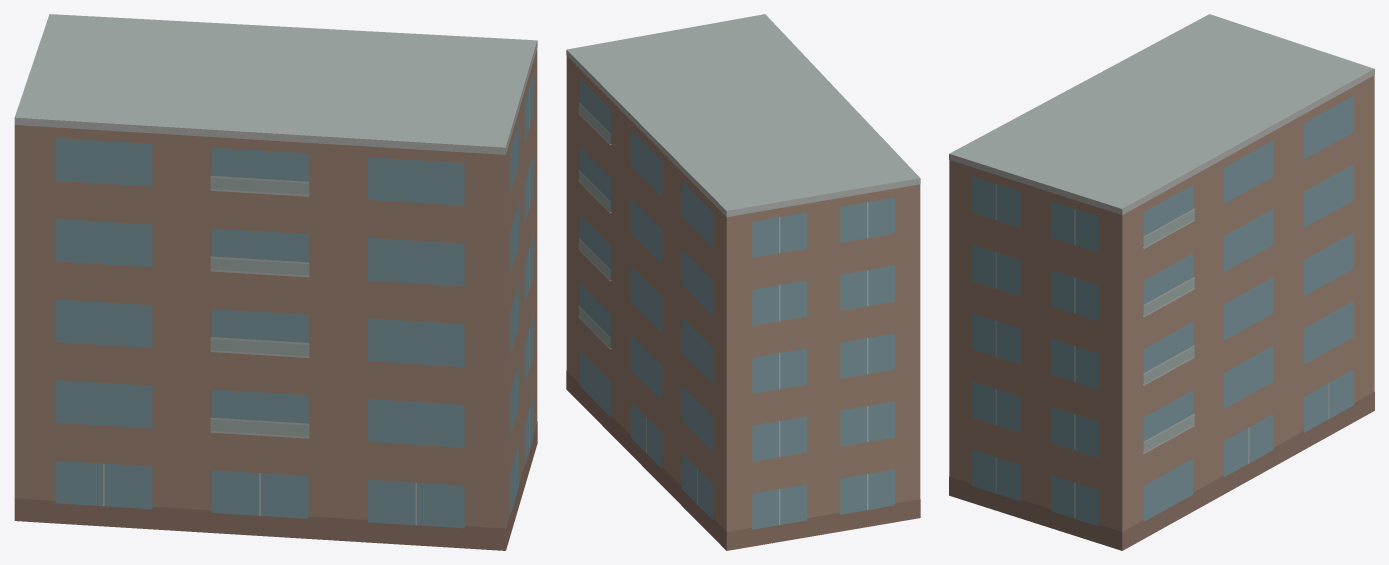
Rendered from survey-upis-32704587.glb.
3 renders of one model, left to right at view 1: azimuth 30°, elevation 25°; view 2: azimuth 150°, elevation 25°; view 3: azimuth 270°, elevation 25°, orthographic. The views are drawn at different scales.
Visible parts, largest first — view 1: survey-upis-32704587.tmp; view 2: survey-upis-32704587.tmp; view 3: survey-upis-32704587.tmp.
Boxes of the visible parts, bbox=[...] form: survey-upis-32704587.tmp: bbox=[14, 14, 537, 550]; survey-upis-32704587.tmp: bbox=[566, 14, 920, 550]; survey-upis-32704587.tmp: bbox=[949, 14, 1374, 550].
Bounding box in the file's own units: 16.65 × 13.6 × 15.36.
